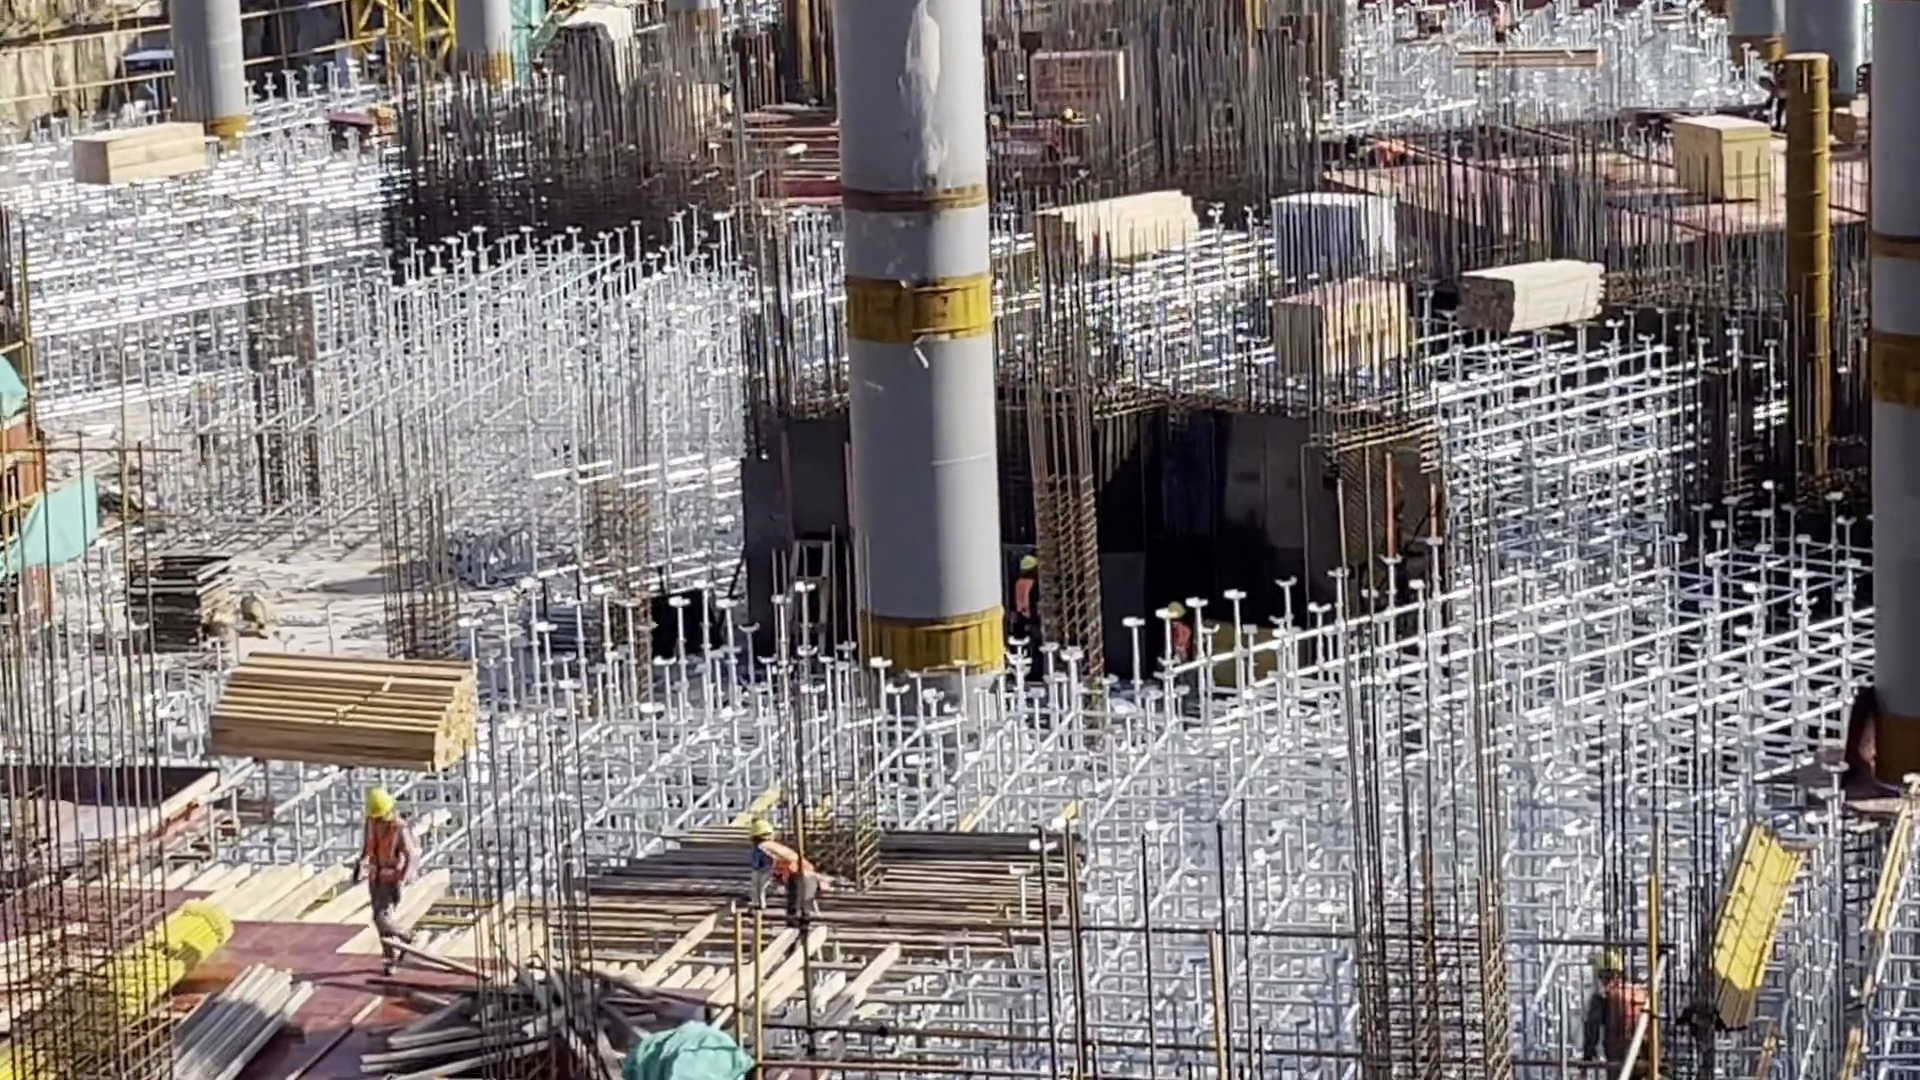board: (115, 541, 240, 654), (1673, 105, 1772, 198)
helmet: (367, 784, 395, 825), (751, 818, 777, 849), (1160, 602, 1192, 625), (1020, 554, 1039, 574)
person: (1570, 924, 1667, 1080), (751, 811, 826, 941), (362, 783, 411, 963), (1160, 590, 1199, 698), (1013, 543, 1045, 670)
vest: (758, 839, 820, 896), (364, 817, 409, 891), (1015, 577, 1041, 628), (1170, 622, 1192, 664)
wood: (200, 648, 484, 770), (1036, 176, 1205, 282), (1455, 247, 1605, 335), (70, 120, 207, 191)
